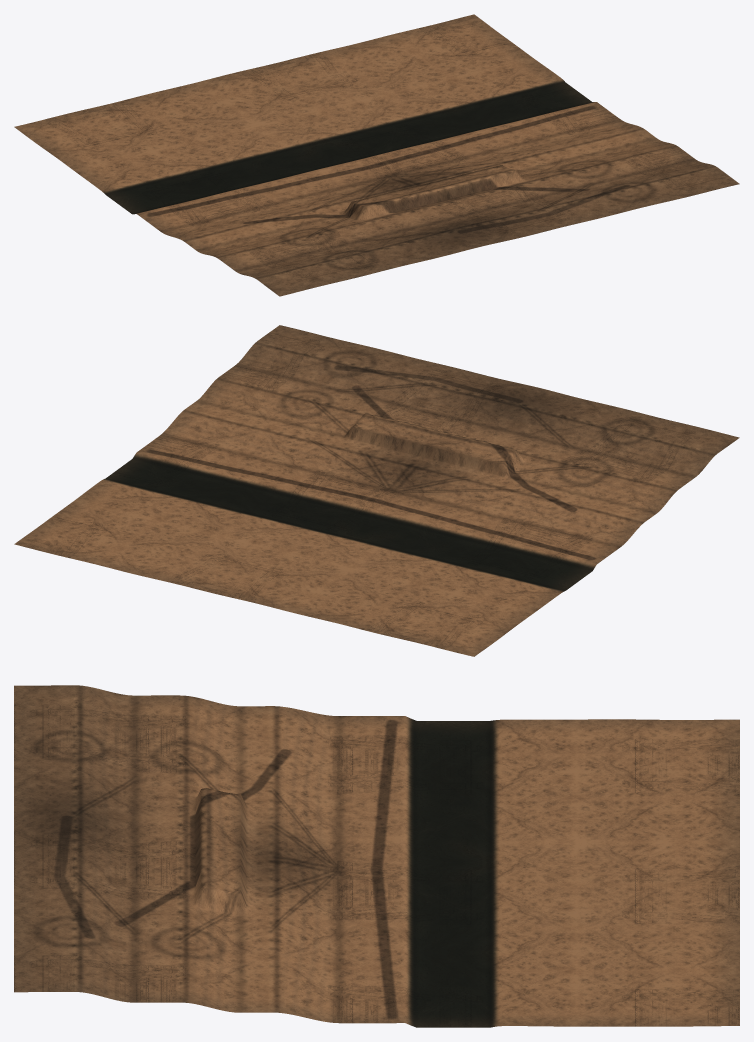
File: hill-mine-terrain.glb
The picture shows the model from 3 angles, top to bottom: view 1: azimuth 30°, elevation 25°; view 2: azimuth 150°, elevation 25°; view 3: azimuth 270°, elevation 25°; orthographic projection. The views are drawn at different scales.
Parts seen in each view (by area): view 1: HillMineTerrain; view 2: HillMineTerrain; view 3: HillMineTerrain.
Boxes of the visible parts, left/top/right/bottom form: HillMineTerrain: left=14, top=14, right=739, bottom=296; HillMineTerrain: left=14, top=325, right=739, bottom=656; HillMineTerrain: left=14, top=685, right=739, bottom=1027.
Size of the model in its own units: 96 by 5.42 by 96.
1 material, 1 textured.
